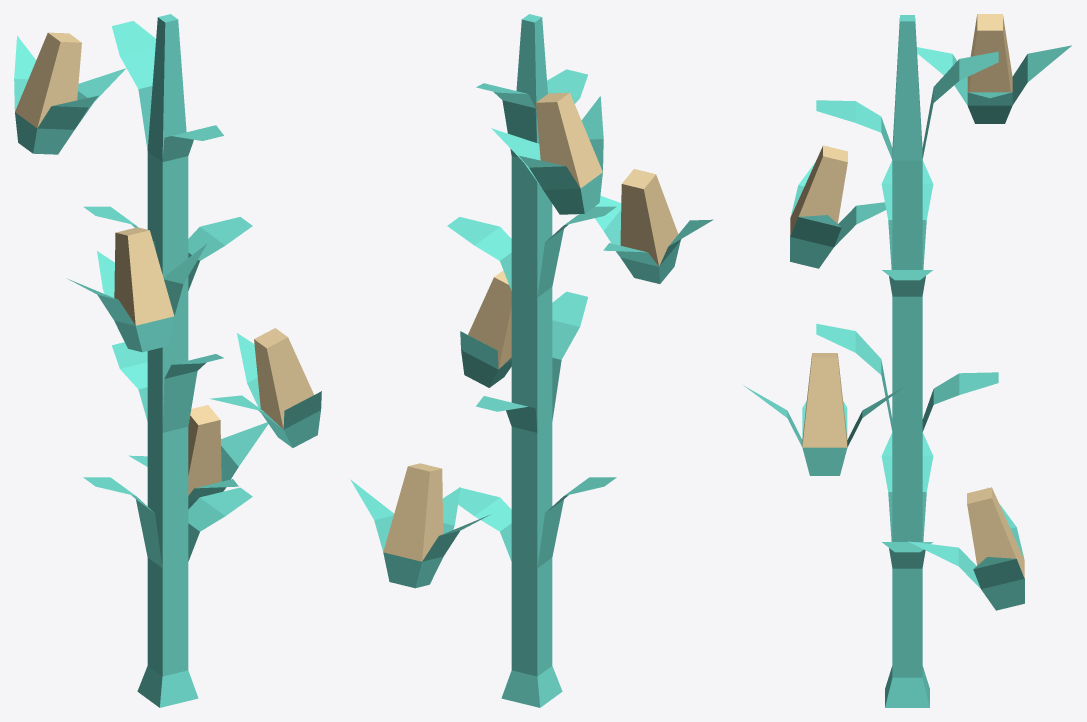
File: crops_cornStageD.glb
The picture shows the model from 3 angles, left to right: view 1: azimuth 30°, elevation 25°; view 2: azimuth 150°, elevation 25°; view 3: azimuth 270°, elevation 25°; orthographic projection.
Visible parts, largest first — view 1: crops_cornStageD, corn.003, corn.002, corn.001, corn; view 2: crops_cornStageD, corn.003, corn, corn.002, corn.001; view 3: crops_cornStageD, corn, corn.002, corn.003, corn.001.
Boxes of the visible parts, x1,y1,x2,y2 form: crops_cornStageD: [83, 14, 252, 707]; corn.003: [14, 32, 126, 154]; corn.002: [66, 227, 206, 352]; corn.001: [209, 328, 321, 447]; corn: [128, 405, 268, 509]; crops_cornStageD: [447, 14, 616, 707]; corn.003: [491, 92, 603, 214]; corn: [350, 463, 490, 588]; corn.002: [595, 169, 713, 283]; corn.001: [460, 270, 511, 387]; crops_cornStageD: [816, 15, 998, 707]; corn: [908, 487, 1024, 610]; corn.002: [790, 145, 886, 268]; corn.003: [917, 14, 1071, 123]; corn.001: [743, 353, 906, 475].
Size of the model in its own units: 0.55 by 1.25 by 0.55.
